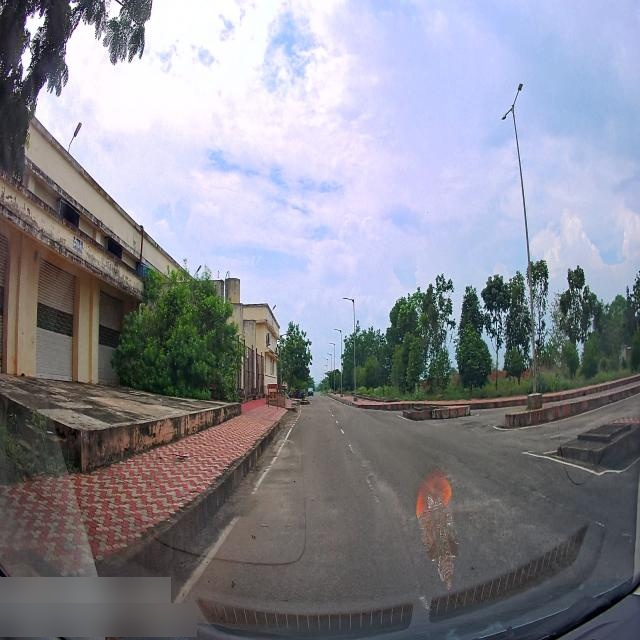pothole: (485, 423, 492, 428)
